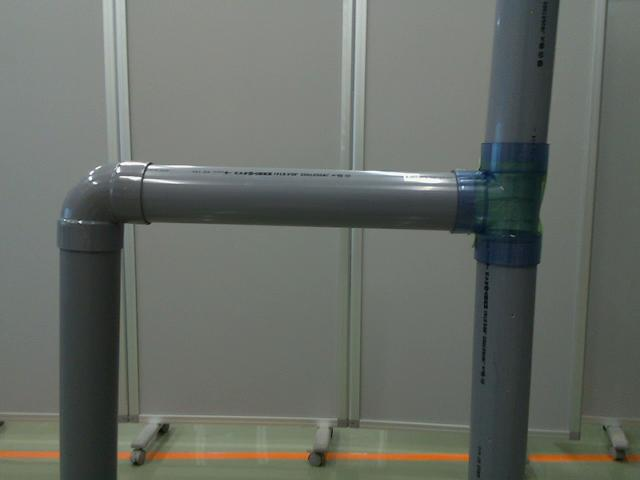bent: (59, 157, 156, 259)
junction: (448, 139, 549, 263)
